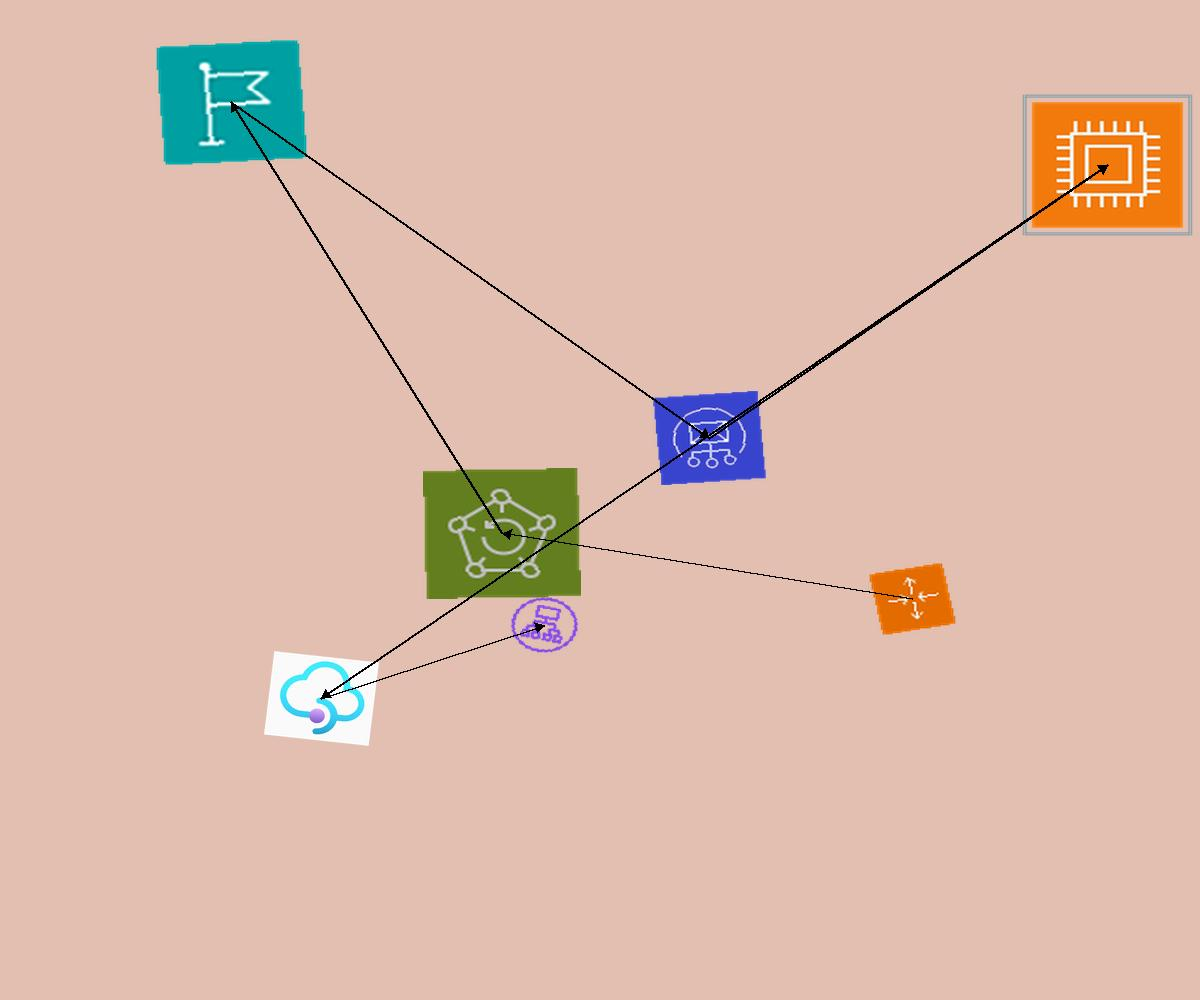AWS-Backup: (423, 468, 581, 599)
AWS-Category_Compute: (1021, 93, 1194, 237)
AWS-Region: (155, 39, 308, 166)
AWS-Res_Elastic-Load-Balancing_Application-Load-Balancer: (501, 589, 588, 661)
AWS-Scaling-group: (868, 562, 957, 636)
AWS-Simple-Email-Service: (652, 390, 767, 486)
Azure_api_gateway: (264, 651, 379, 746)
